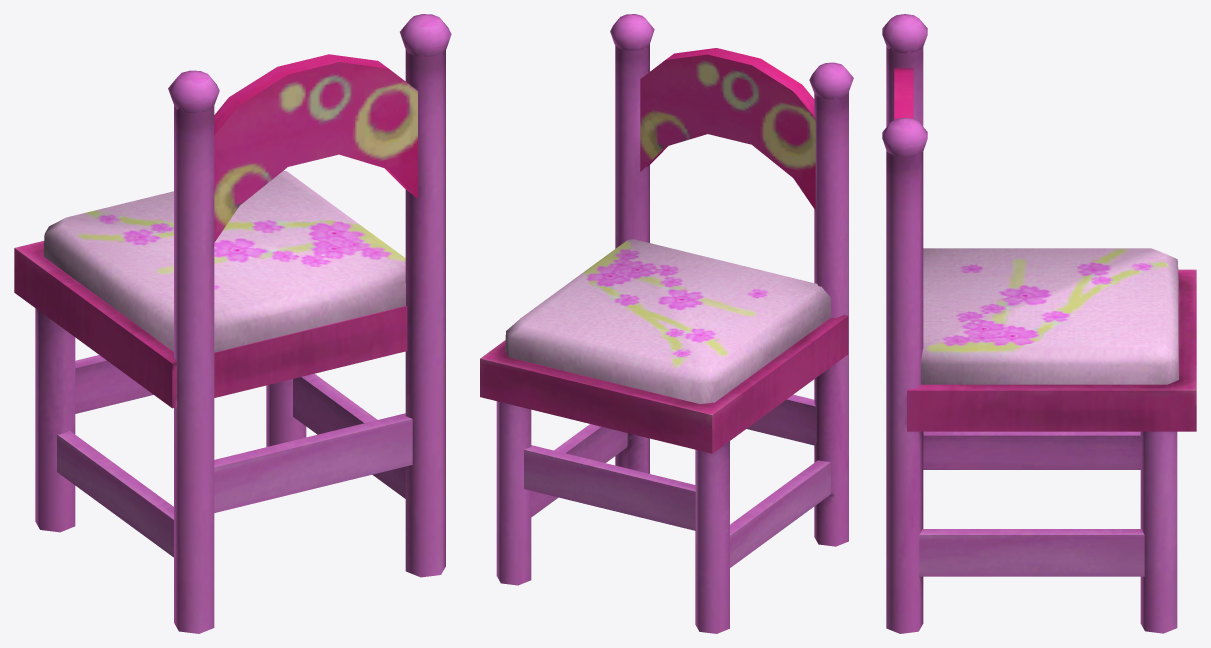
File: furni_0200510_01.FBX
The picture shows the model from 3 angles, left to right: view 1: azimuth 30°, elevation 25°; view 2: azimuth 150°, elevation 25°; view 3: azimuth 270°, elevation 25°; orthographic projection. The views are drawn at different scales.
Parts seen in each view (by area): view 1: furni_0200510_01; view 2: furni_0200510_01; view 3: furni_0200510_01.
Boxes of the visible parts, x1=… form: furni_0200510_01: x1=14, y1=14, x2=451, y2=633; furni_0200510_01: x1=480, y1=14, x2=853, y2=633; furni_0200510_01: x1=882, y1=14, x2=1196, y2=633.
Size of the model in its own units: 43.21 by 82.42 by 46.35.
Materials: 1 (1 with a texture image).
